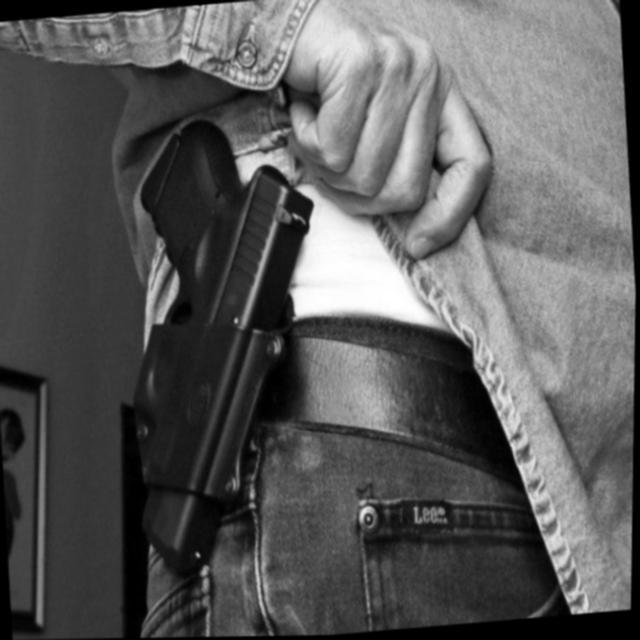weapon: (110, 110, 340, 580)
